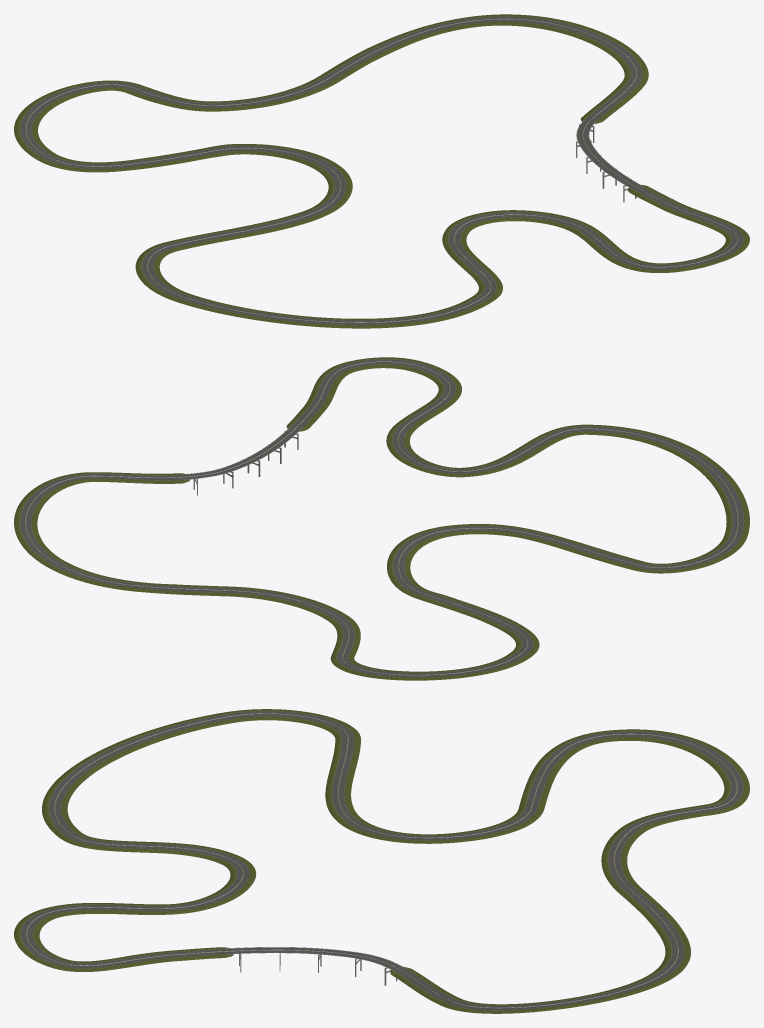
Rendered from Track_C_01.FBX.
3 renders of one model, top to bottom at view 1: azimuth 30°, elevation 25°; view 2: azimuth 150°, elevation 25°; view 3: azimuth 270°, elevation 25°, orthographic. The views are drawn at different scales.
Visible parts, largest first — view 1: Track_C_002; view 2: Track_C_002, Bridge; view 3: Track_C_002, Bridge.
Part boxes in pixels (x1,y1,x2,y2): Track_C_002: [14, 14, 749, 328]; Track_C_002: [14, 357, 749, 680]; Bridge: [182, 425, 302, 495]; Track_C_002: [14, 709, 749, 1013]; Bridge: [225, 947, 405, 985].
Size of the model in its own units: 58811 by 2379 by 58648.
